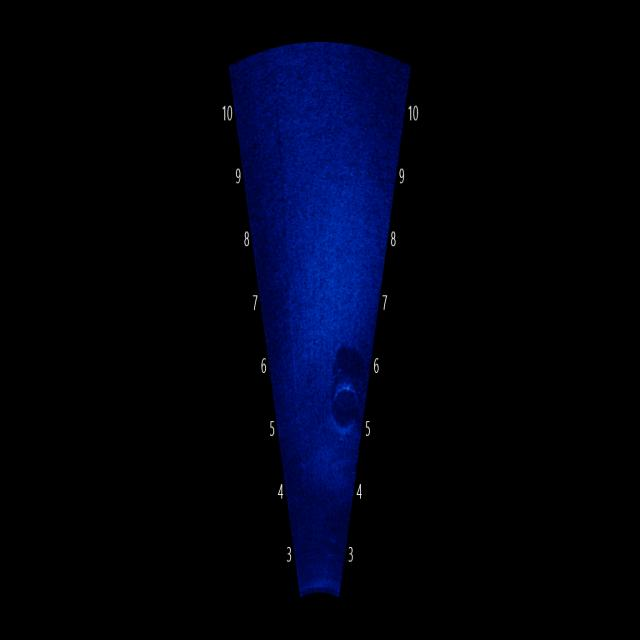circle: (322, 367, 366, 448)
